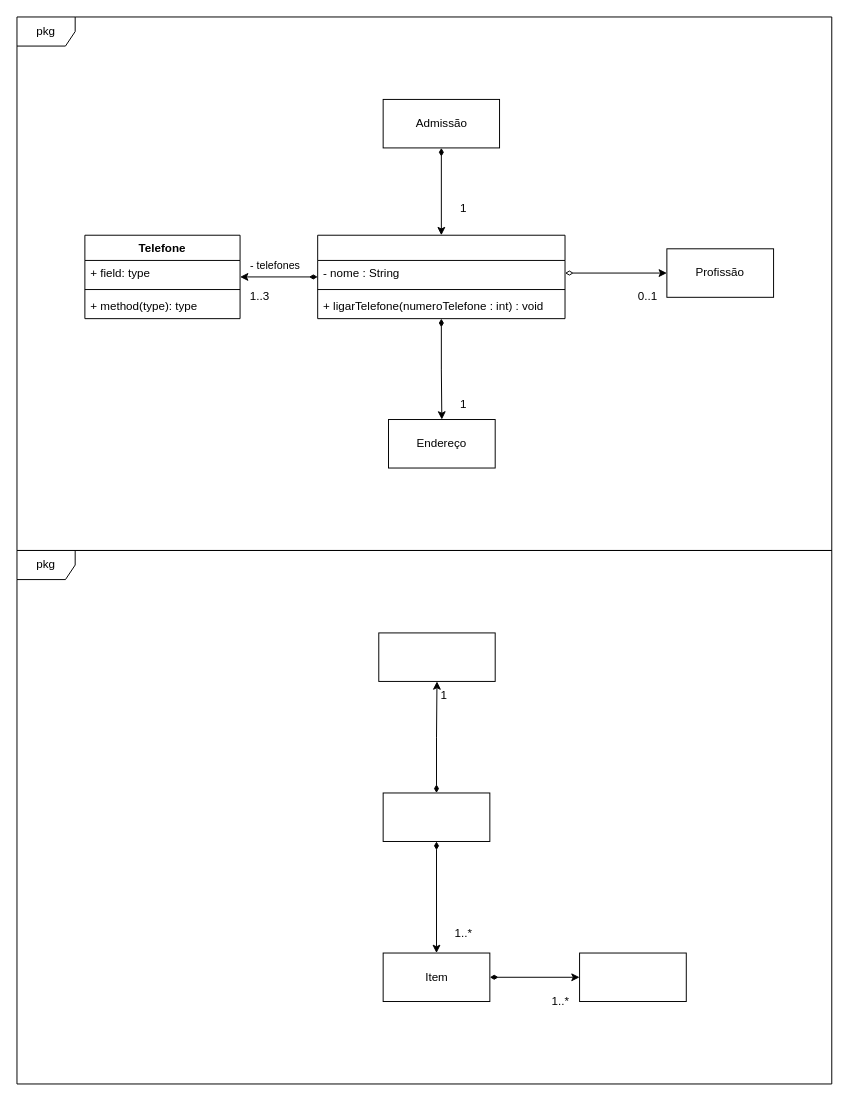
Image size: 849x1101. Some labels were removed from this diagram. Each missing label, with the box of its shape:
Candidato: (317, 234, 565, 319)
Cliente: (378, 632, 495, 681)
Pedido: (382, 792, 490, 841)
Produto: (579, 952, 686, 1002)
